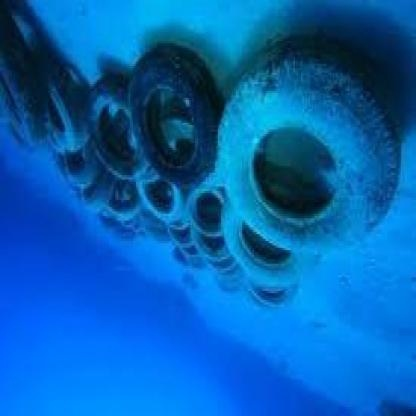tire: (221, 47, 386, 264), (135, 56, 227, 204), (224, 204, 308, 314), (83, 70, 156, 180), (189, 177, 241, 259), (145, 173, 194, 250)
